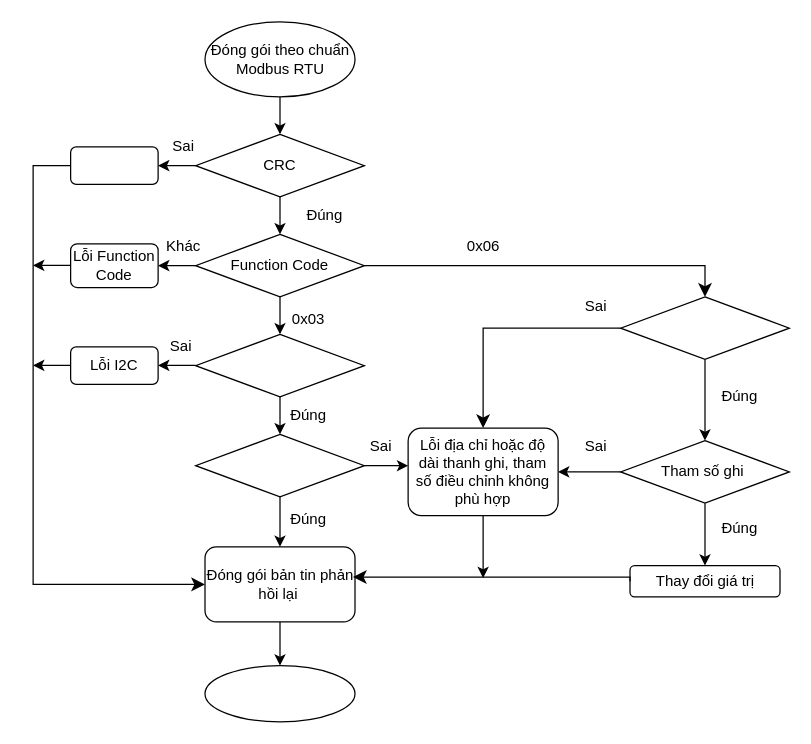
Image size: 811x744. Some labels were removed from this diagram. Here are the shapes that lost their labels. From the top down, the box of each, then its label:
(69, 146, 158, 184): Lỗi CRC
(619, 296, 789, 359): Địa chỉ cần ghi
(194, 333, 364, 397): Nhiệt độ và độ ẩm
(194, 433, 364, 497): Địa chỉ và độ dài đọc
(204, 664, 355, 722): Kết thúc
